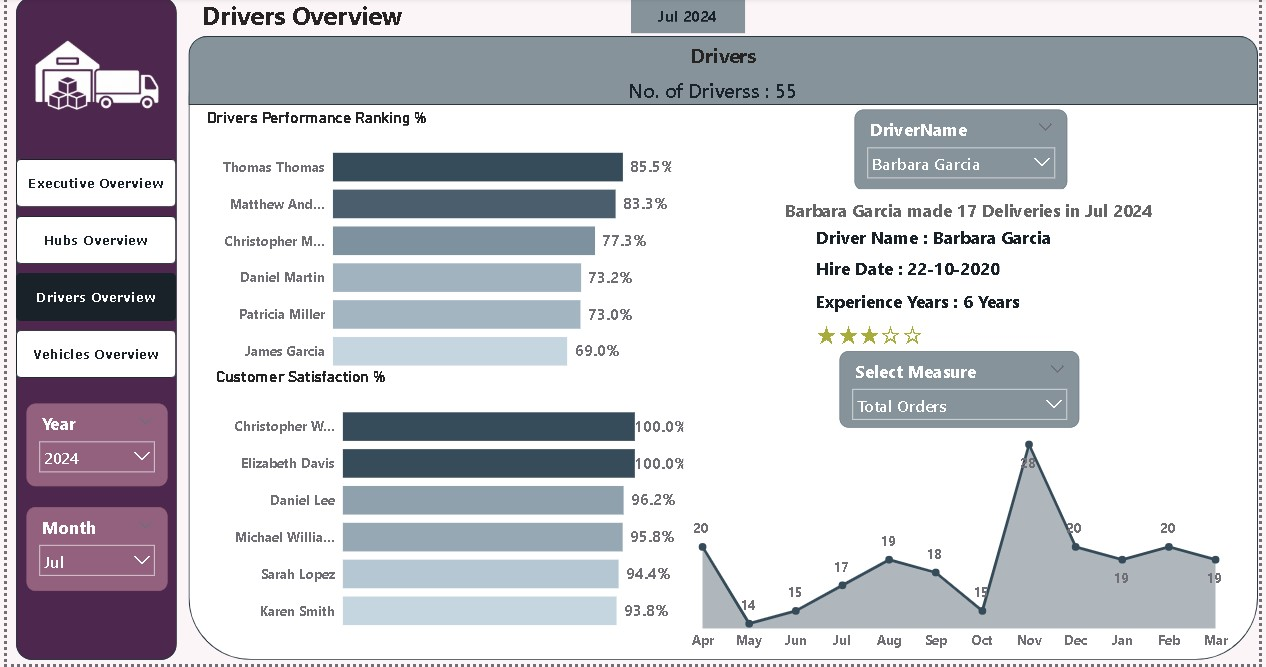

The dashboard page shown, as its layout file describes it:
{"tool":"powerbi","page":{"name":"Drivers Overview","canvas":[1360,725],"ordinal":2},"visuals":[{"type":"shape","box":[197.3,42.4,1162.5,678.3],"z":0},{"type":"shape","box":[9.7,0,174.9,720.6],"z":1000},{"type":"shape","box":[197.3,42.4,1162.5,75],"z":2000},{"type":"textbox","box":[212,1.6,257.6,37.5],"z":3000},{"type":"textbox","box":[689.7,42.4,177.7,44],"z":4000},{"type":"cardVisual","fields":{"Data":["Drivers.Drivers Count"]},"box":[650.6,76.6,256,47.3],"z":5000},{"type":"clusteredBarChart","title":"Drivers Performance Ranking %","fields":{"Category":["Drivers.DriverName"],"Y":["Orders.On Time Delivery Rate %"]},"box":[212,120.7,515.2,301.6],"z":6000},{"type":"group","id":"g1","title":"Group 2","box":[904.9,384.8,260.9,83.2],"z":7000},{"type":"barChart","title":"Customer Satisfaction %","fields":{"Y":["Orders.Customer Satisfied Orders %"],"Category":["Drivers.DriverName"]},"box":[221.7,402.7,518.5,301.6],"z":8000},{"type":"slicer","fields":{"Values":["Drivers.DriverName"]},"box":[921.2,122.3,231.5,88],"z":9000},{"type":"cardVisual","fields":{"Data":["Drivers.Drivers Details"]},"box":[730.5,203.8,629.4,52.2],"z":10000},{"type":"cardVisual","fields":{"Data":["Drivers.Driver Name New","Drivers.Hire Date New","Drivers.Experience Years New","Drivers.Star Rating"]},"box":[867.4,241.3,404.4,140.2],"z":11000},{"type":"areaChart","fields":{"Y":["Orders.Total Orders"],"Category":["Date Table.Month"]},"box":[730.5,467.9,608.2,251.1],"z":12000},{"type":"cardVisual","fields":{"Data":["Date Table.Year Month Titile"]},"box":[678.3,0,123.9,39.1],"z":13000},{"type":"pageNavigator","box":[9.8,176.1,174.5,239.7],"z":14000},{"type":"image","box":[9.8,1.6,174.5,174.5],"z":15000},{"type":"slicer","fields":{"Values":["Date Table.Year"]},"box":[21.2,441.2,153.3,89.7],"z":16000},{"type":"slicer","fields":{"Values":["Date Table.Month"]},"box":[21.2,553.7,153.3,91.3],"z":17000},{"type":"slicer","fields":{"Values":["Select Measure.Select Measure"]},"box":[904.9,384.8,260.9,83.2],"z":34003,"group":"g1"}]}

Visuals, with their boxes in screenshot pixels (x1, y1, x2, y2), scaled from the page's 1360x725 canvas onto the 1266x667 screenshot:
shape: <bbox>184, 39, 1265, 663</bbox>
shape: <bbox>9, 0, 172, 663</bbox>
shape: <bbox>184, 39, 1265, 108</bbox>
textbox: <bbox>197, 1, 437, 36</bbox>
textbox: <bbox>642, 39, 807, 79</bbox>
cardVisual - Drivers.Drivers Count: <bbox>606, 70, 844, 114</bbox>
"Drivers Performance Ranking %" clusteredBarChart: <bbox>197, 111, 677, 389</bbox>
"Group 2" group: <bbox>842, 354, 1085, 431</bbox>
"Customer Satisfaction %" barChart: <bbox>206, 370, 689, 648</bbox>
slicer - Drivers.DriverName: <bbox>858, 113, 1073, 193</bbox>
cardVisual - Drivers.Drivers Details: <bbox>680, 187, 1265, 236</bbox>
cardVisual - Drivers.Driver Name New x Drivers.Hire Date New: <bbox>807, 222, 1184, 351</bbox>
areaChart - Orders.Total Orders x Date Table.Month: <bbox>680, 430, 1246, 661</bbox>
cardVisual - Date Table.Year Month Titile: <bbox>631, 0, 747, 36</bbox>
pageNavigator: <bbox>9, 162, 172, 383</bbox>
image: <bbox>9, 1, 172, 162</bbox>
slicer - Date Table.Year: <bbox>20, 406, 162, 488</bbox>
slicer - Date Table.Month: <bbox>20, 509, 162, 593</bbox>
slicer - Select Measure.Select Measure: <bbox>842, 354, 1085, 431</bbox>
